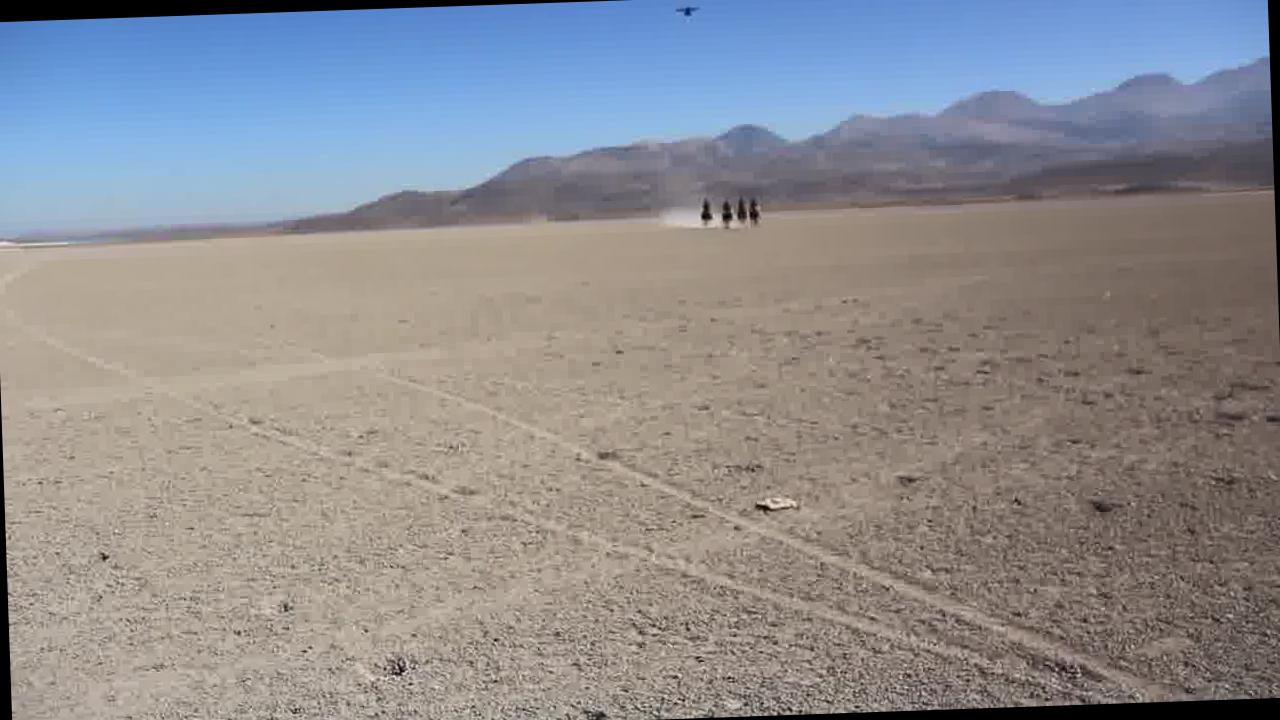drone: (672, 1, 702, 22)
